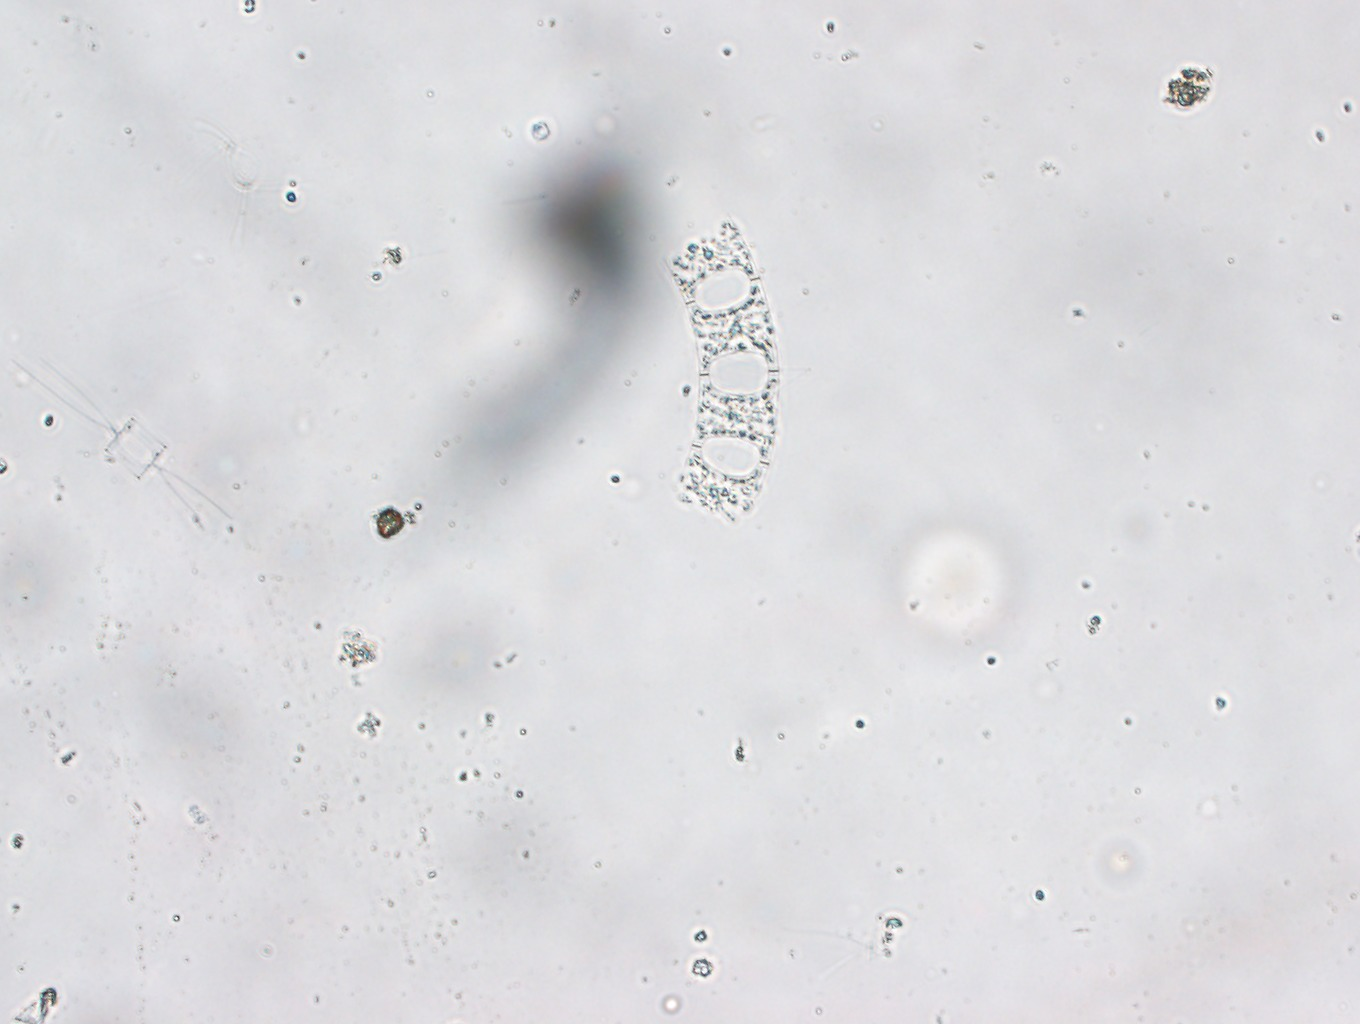chaetoceros: (11, 350, 233, 532)
eucampia: (663, 212, 781, 529)
